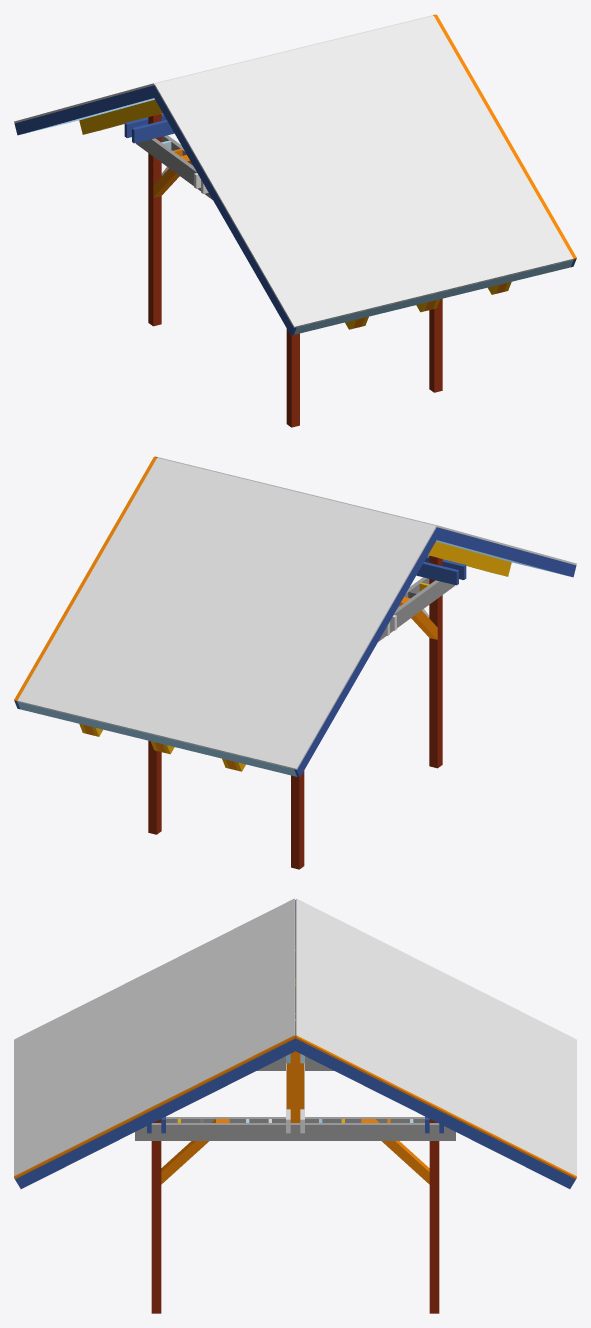
The model's file is Pavilion obj.dae.
The picture shows the model from 3 angles, top to bottom: view 1: azimuth 30°, elevation 25°; view 2: azimuth 150°, elevation 25°; view 3: azimuth 270°, elevation 25°; orthographic projection.
Visible parts, largest first — view 1: 681ba36f04b8e4701c65508e (×54); view 2: 681ba36f04b8e4701c65508e (×54); view 3: 681ba36f04b8e4701c65508e (×99).
Part boxes in pixels (x1,y1,x2,y2): 681ba36f04b8e4701c65508e (×54): (14,15,576,427); 681ba36f04b8e4701c65508e (×54): (14,457,576,869); 681ba36f04b8e4701c65508e (×99): (14,898,576,1313).
Bounding box in the file's own units: 6.22 × 10.7 × 6.47.
